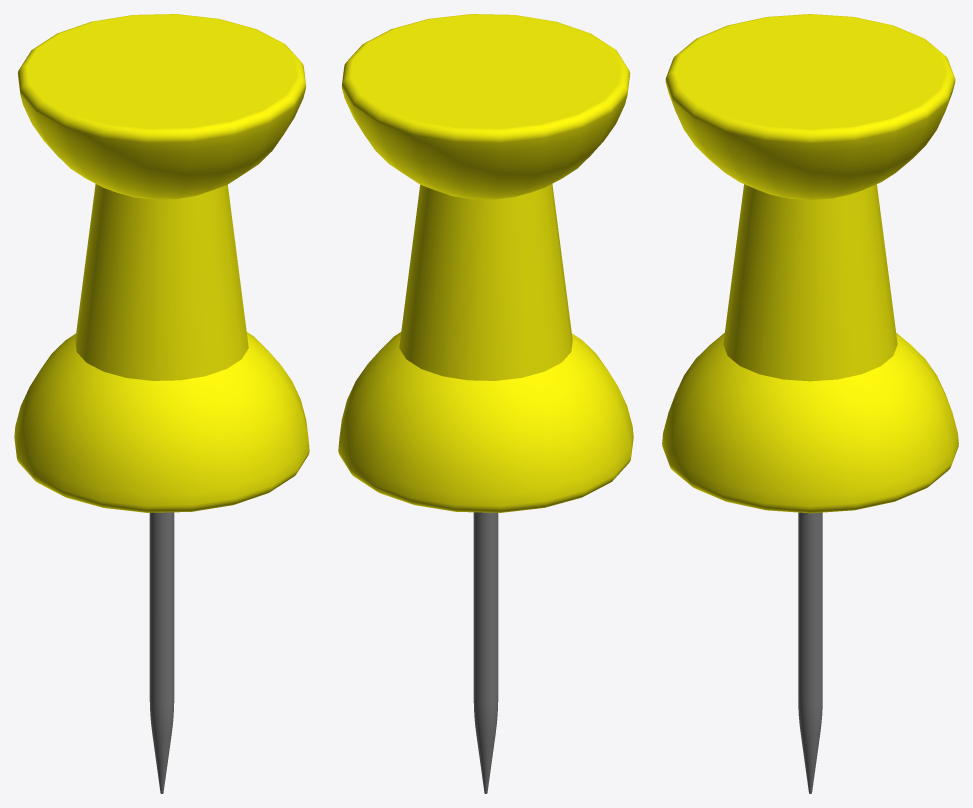
3 renders of one model, left to right at view 1: azimuth 30°, elevation 25°; view 2: azimuth 150°, elevation 25°; view 3: azimuth 270°, elevation 25°, orthographic.
Parts seen in each view (by area): view 1: polySurface2, polySurface1; view 2: polySurface2, polySurface1; view 3: polySurface2, polySurface1.
Boxes of the visible parts, left/top/right/bottom form: polySurface2: left=14, top=14, right=309, bottom=512; polySurface1: left=149, top=512, right=174, bottom=793; polySurface2: left=338, top=14, right=633, bottom=512; polySurface1: left=473, top=512, right=498, bottom=793; polySurface2: left=662, top=14, right=958, bottom=513; polySurface1: left=798, top=512, right=822, bottom=793.
Bounding box in the file's own units: 1.21 × 3.23 × 1.21.
